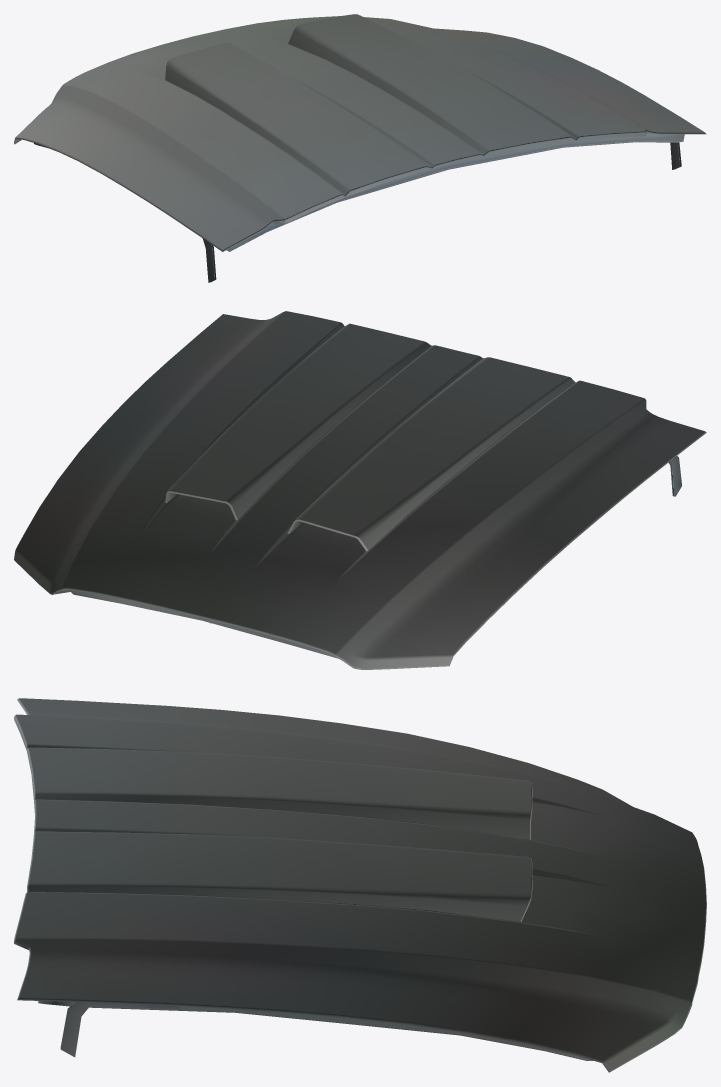
Rendered from Cofre.obj.
The picture shows the model from 3 angles, top to bottom: view 1: azimuth 30°, elevation 25°; view 2: azimuth 150°, elevation 25°; view 3: azimuth 270°, elevation 25°; orthographic projection. The views are drawn at different scales.
Visible parts, largest first — view 1: bonnet_ok; view 2: bonnet_ok; view 3: bonnet_ok.
Boxes of the visible parts, box(x1,y1,x2,y2) form: bonnet_ok: box(14, 14, 706, 282); bonnet_ok: box(14, 311, 706, 669); bonnet_ok: box(14, 698, 706, 1072).
Size of the model in its own units: 11.22 by 2.19 by 10.94.
